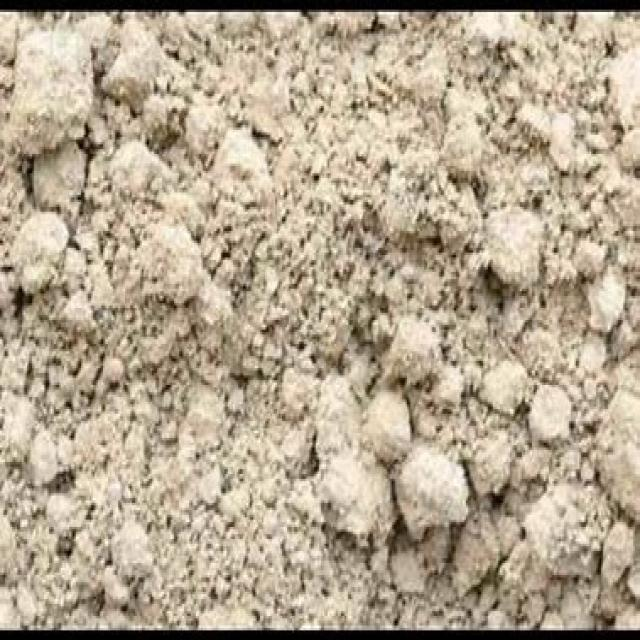Alluvial Soil: (47, 43, 595, 567)
